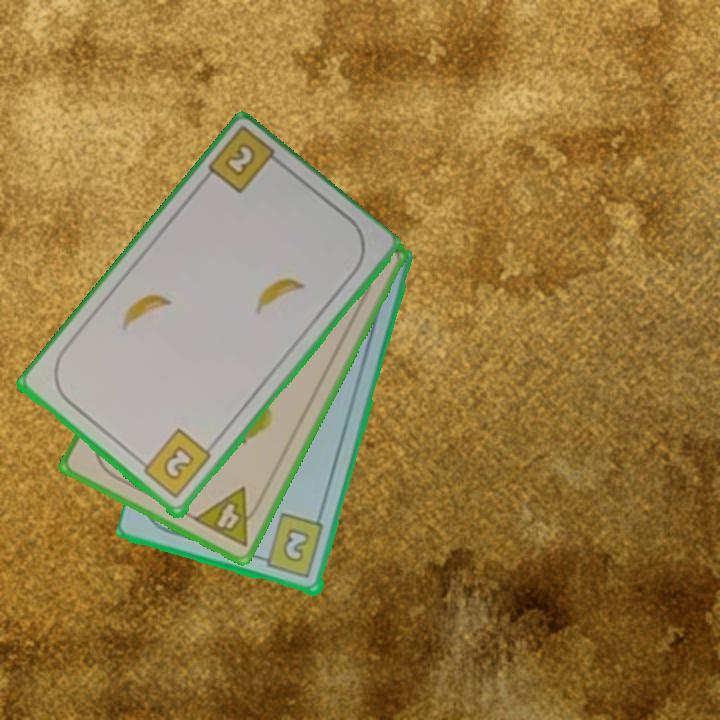2b: (134, 426, 215, 502), (255, 511, 327, 581), (221, 139, 259, 180)
4p: (189, 483, 267, 550)
